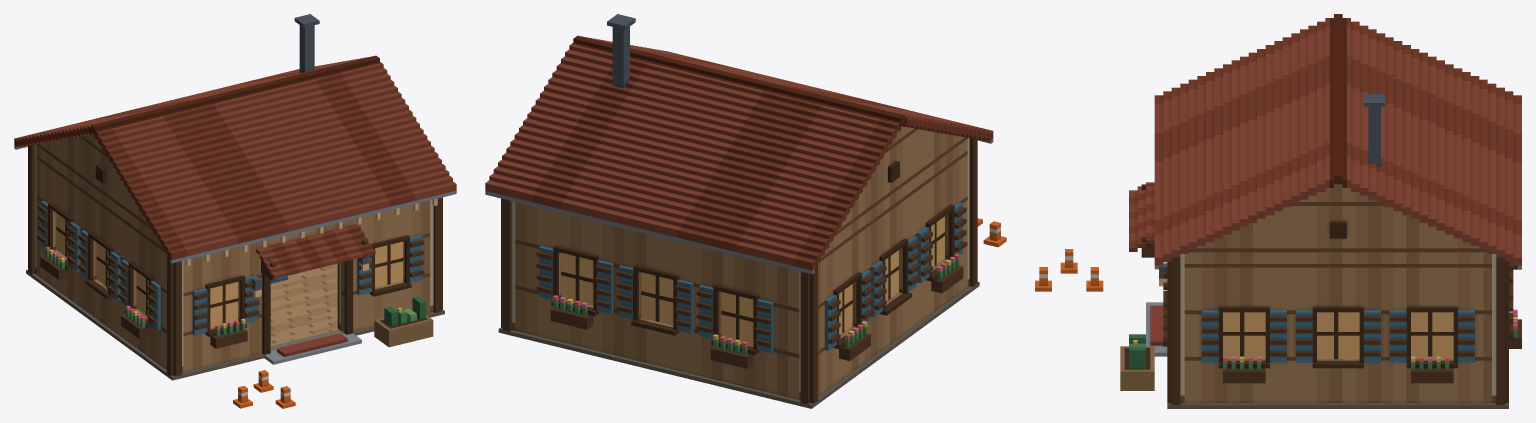
The model's file is training_e1_l1.glb.
3 views of the same model, side by side, from view 1: azimuth 30°, elevation 25°; view 2: azimuth 150°, elevation 25°; view 3: azimuth 270°, elevation 25° (orthographic). The views are drawn at different scales.
Visible parts, largest first — view 1: CutRoof, CutPZ, Base, CutNX, CutNZ; view 2: CutRoof, CutNZ, Base, CutNX, CutPZ; view 3: CutRoof, CutPX, Base, CutPZ, CutNZ.
Boxes of the visible parts, box(x1,y1,x2,y2) form: CutRoof: box(14, 14, 456, 266); CutPZ: box(167, 197, 442, 346); Base: box(26, 242, 444, 408); CutNX: box(36, 146, 166, 339); CutNZ: box(28, 144, 36, 244); CutRoof: box(485, 14, 993, 274); CutNZ: box(501, 198, 817, 369); Base: box(498, 218, 1006, 408); CutNX: box(818, 139, 967, 362); CutPZ: box(967, 138, 977, 252); CutRoof: box(1154, 14, 1521, 269); CutPX: box(1184, 252, 1491, 375); Base: box(1035, 249, 1521, 408); CutPZ: box(1129, 182, 1184, 370); CutNZ: box(1492, 254, 1521, 370).
Size of the model in its own units: 9.2 by 7.3 by 11.4.
